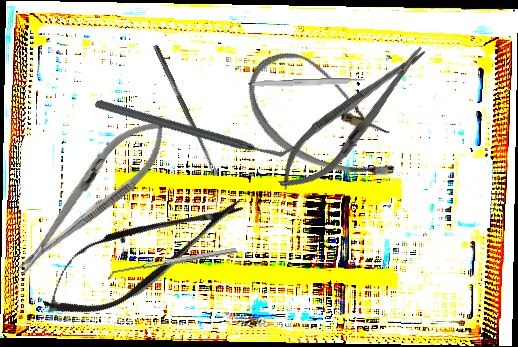Cannula: (228, 38, 423, 198)
Chopper: (92, 32, 297, 223)
Micro Scissor: (28, 172, 257, 336)
Needle Holder: (1, 101, 184, 289), (265, 32, 441, 205)
Scalpel Handle: (247, 76, 367, 90)
Spatula Surgical: (106, 247, 238, 281)
Surgical Spoon: (152, 44, 218, 176)
